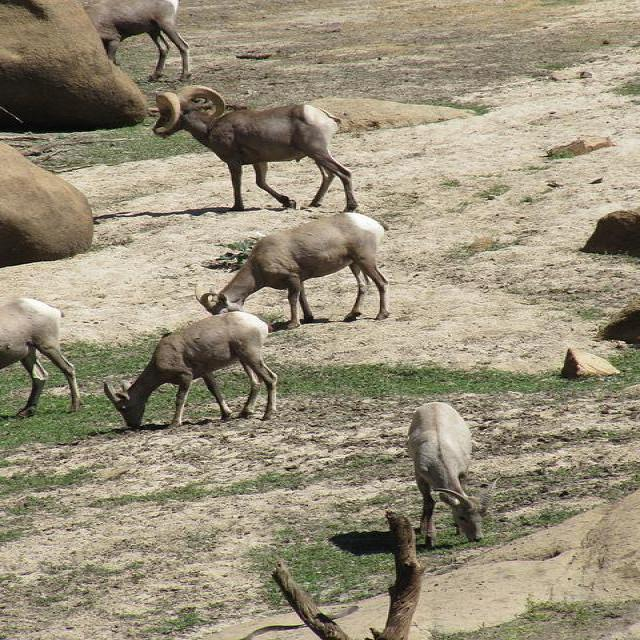Sheep: (101, 310, 282, 430), (1, 297, 86, 420), (84, 0, 193, 83)
